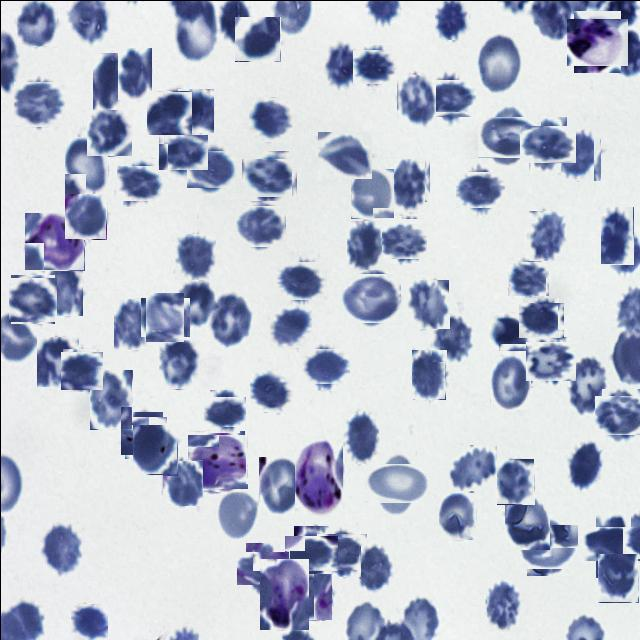difficult: (24, 212, 84, 270)
red blood cell: (343, 270, 398, 325), (476, 32, 522, 95), (370, 456, 422, 509), (482, 110, 535, 162), (258, 456, 303, 515), (522, 520, 574, 571), (566, 352, 608, 414), (587, 518, 638, 569), (89, 369, 132, 429), (64, 136, 108, 194), (317, 131, 371, 178), (504, 493, 549, 549), (489, 352, 532, 408), (13, 80, 62, 128), (211, 290, 253, 345), (447, 444, 496, 490), (132, 424, 177, 474), (389, 158, 430, 212), (245, 154, 292, 201), (524, 120, 570, 168), (350, 168, 394, 218), (86, 109, 132, 156), (41, 522, 81, 575), (238, 202, 284, 248), (9, 276, 55, 322), (396, 72, 435, 126), (158, 339, 200, 389), (36, 336, 78, 386), (216, 488, 256, 540), (560, 129, 600, 181), (234, 16, 280, 61), (430, 312, 472, 361), (345, 220, 386, 270), (528, 338, 572, 384), (407, 279, 448, 328), (597, 553, 638, 602), (113, 298, 152, 349), (288, 530, 333, 574), (427, 75, 471, 120), (174, 233, 216, 280), (290, 573, 332, 620), (92, 52, 125, 111), (44, 264, 82, 315), (279, 258, 323, 302), (320, 528, 364, 572), (248, 96, 292, 140), (240, 546, 284, 590), (142, 294, 186, 338), (64, 193, 106, 239), (598, 392, 640, 438), (600, 206, 633, 264), (526, 210, 564, 260), (188, 147, 232, 190), (302, 344, 346, 387), (268, 304, 311, 348), (382, 217, 426, 260), (147, 90, 190, 134), (16, 0, 57, 46), (162, 458, 202, 504), (438, 492, 476, 540), (250, 368, 292, 411), (344, 410, 378, 463), (486, 578, 520, 631), (117, 47, 151, 99), (459, 168, 501, 210), (122, 414, 164, 456), (161, 130, 203, 172), (567, 441, 602, 491), (496, 458, 534, 504), (411, 349, 445, 399), (490, 310, 530, 352), (177, 282, 213, 328), (119, 162, 160, 202), (520, 299, 560, 340), (61, 349, 101, 390), (354, 46, 394, 86), (177, 88, 213, 132), (358, 545, 391, 592), (324, 41, 356, 88), (509, 259, 547, 297), (206, 392, 242, 429), (434, 0, 468, 39), (70, 604, 106, 640)
trophozoite: (294, 436, 342, 514), (259, 558, 308, 629), (188, 432, 246, 489), (569, 13, 624, 68)
